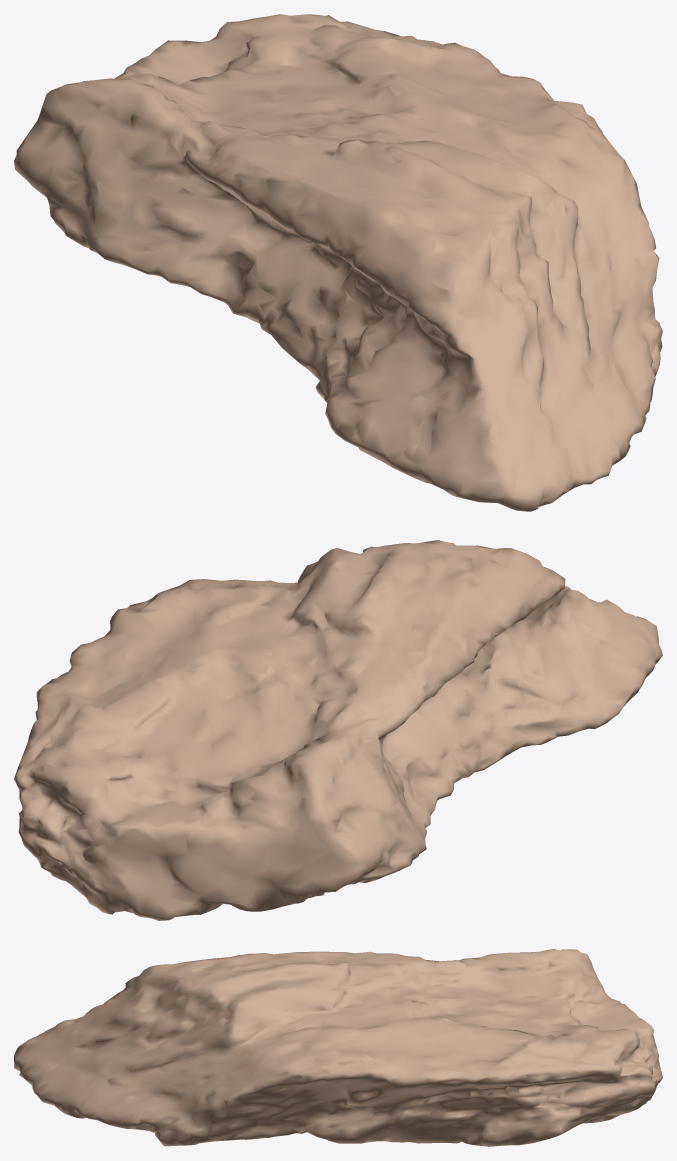
The model's file is drift-stone.glb.
The picture shows the model from 3 angles, top to bottom: view 1: azimuth 30°, elevation 25°; view 2: azimuth 150°, elevation 25°; view 3: azimuth 270°, elevation 25°; orthographic projection. The views are drawn at different scales.
Visible parts, largest first — view 1: drift_stone; view 2: drift_stone; view 3: drift_stone.
Part boxes in pixels (box(x1,y1,x2,y2)): drift_stone: box(14, 14, 662, 511); drift_stone: box(14, 540, 662, 920); drift_stone: box(14, 949, 662, 1146).
Bounding box in the file's own units: 0.074 × 0.0329 × 0.1446.
